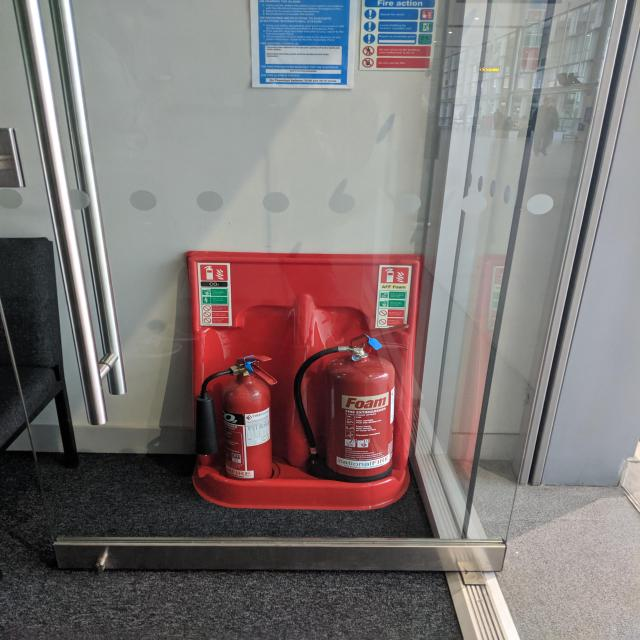fire_extinguisher: (288, 320, 412, 486), (190, 352, 279, 498)
